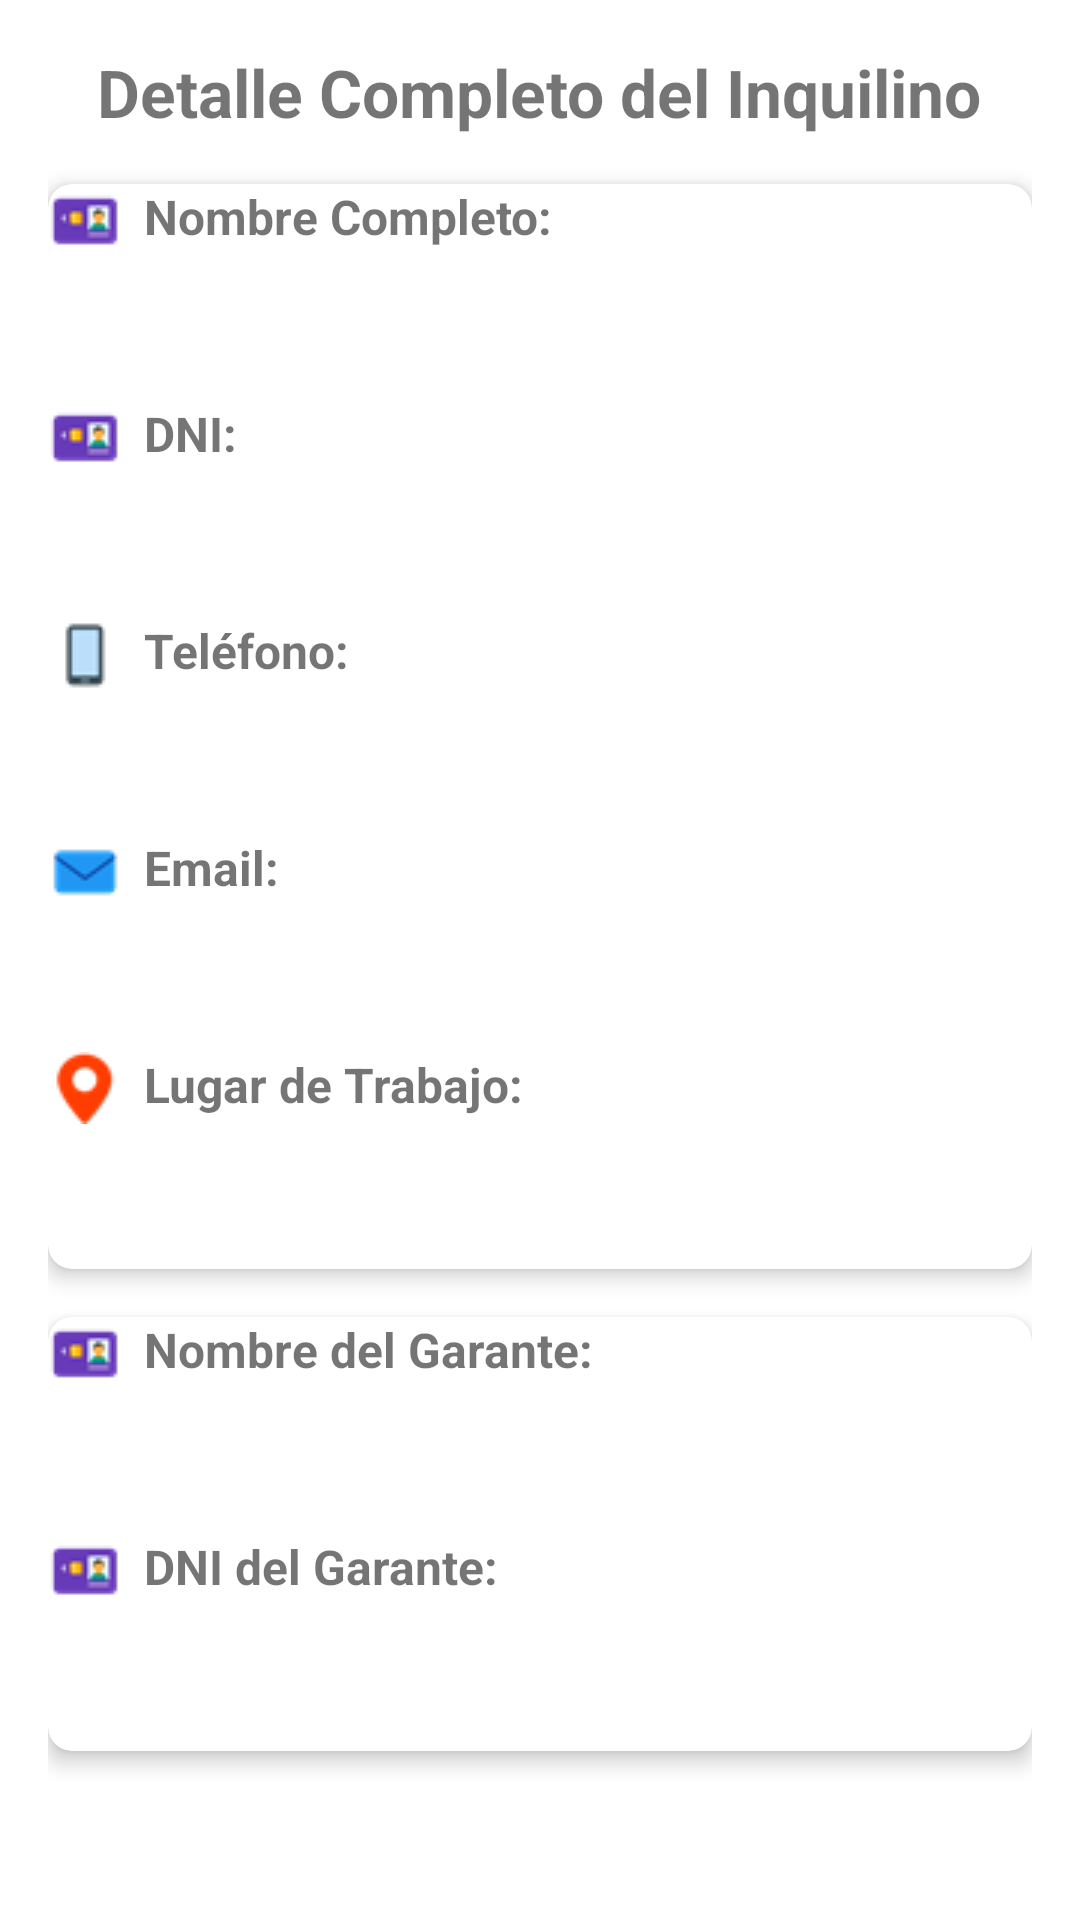

Where to tap for icons on this 1080 × 1920 app screen, as (x,y):
location: (85,1088)
telefono: (85,655)
